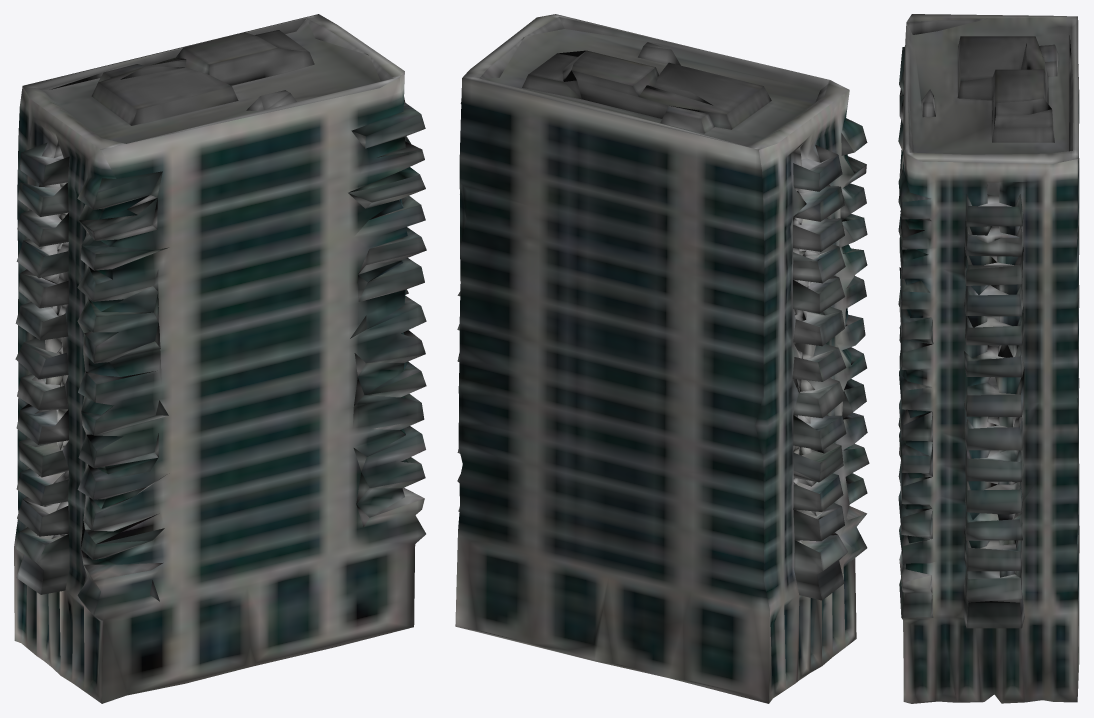
File: renelle_403_n_wabash.glb
3 renders of one model, left to right at view 1: azimuth 30°, elevation 25°; view 2: azimuth 150°, elevation 25°; view 3: azimuth 270°, elevation 25°, orthographic.
Visible parts, largest first — view 1: renelle_403_n_wabash; view 2: renelle_403_n_wabash; view 3: renelle_403_n_wabash.
Part boxes in pixels (box(x1,y1,x2,y2)): renelle_403_n_wabash: box(14, 14, 426, 703); renelle_403_n_wabash: box(455, 14, 869, 703); renelle_403_n_wabash: box(898, 14, 1079, 703).
Size of the model in its own units: 46 by 68 by 20.
Materials: 1 (1 with a texture image).
